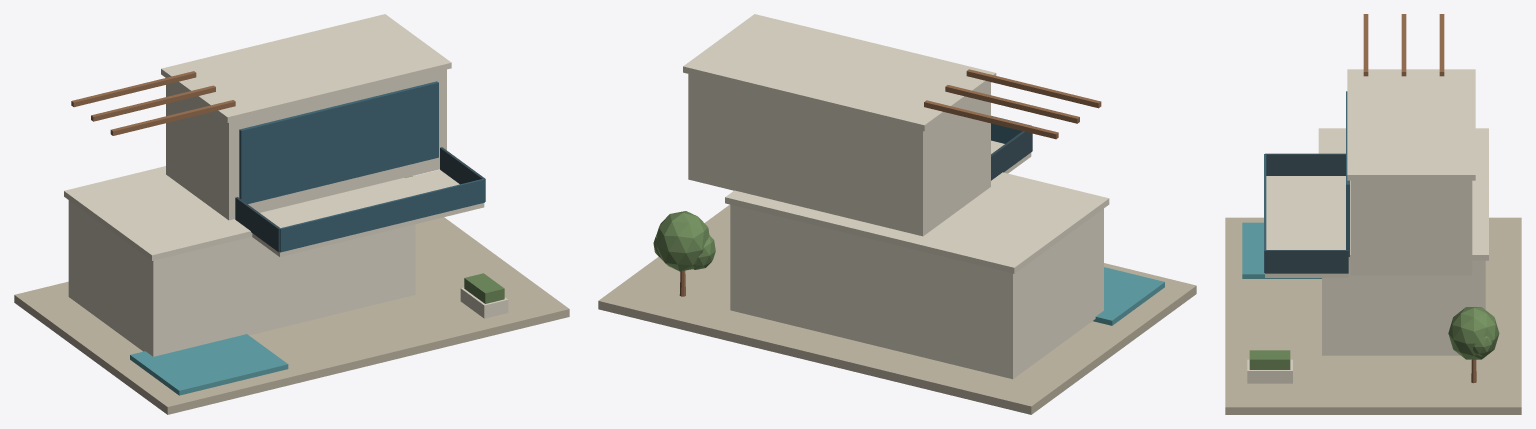
The model's file is villa_lod.glb.
The picture shows the model from 3 angles, left to right: view 1: azimuth 30°, elevation 25°; view 2: azimuth 150°, elevation 25°; view 3: azimuth 270°, elevation 25°; orthographic projection. The views are drawn at different scales.
Visible parts, largest first — view 1: villa_Building_Volume, villa_Site_Paving, villa_Roof_Coping.001, villa_Panoramic_Window, villa_Building_Volume.001, villa_Roof_Coping, villa_Garden_Pool, villa_Balcony_Glass, villa_Balcony_Slab, villa_Balcony_Rail, villa_Roof_Pergola, villa_Roof_Pergola.002 (+4 smaller); view 2: villa_Building_Volume, villa_Building_Volume.001, villa_Site_Paving, villa_Roof_Coping.001, villa_Roof_Coping, villa_Tree_Crown, villa_Garden_Pool, villa_Balcony_Rail, villa_Roof_Pergola.002, villa_Roof_Pergola, villa_Roof_Pergola.001; view 3: villa_Site_Paving, villa_Roof_Coping.001, villa_Building_Volume, villa_Building_Volume.001, villa_Balcony_Slab, villa_Roof_Coping, villa_Balcony_Rail.001, villa_Tree_Crown, villa_Balcony_Rail, villa_Garden_Pool, villa_Hedge, villa_Raised_Planter (+6 smaller).
Boxes of the visible parts, left/top/right/bottom form: villa_Building_Volume: left=68, top=200, right=415, bottom=356; villa_Site_Paving: left=14, top=217, right=569, bottom=414; villa_Roof_Coping.001: left=161, top=14, right=451, bottom=122; villa_Panoramic_Window: left=239, top=81, right=438, bottom=203; villa_Building_Volume.001: left=166, top=69, right=446, bottom=220; villa_Roof_Coping: left=64, top=166, right=404, bottom=260; villa_Garden_Pool: left=130, top=334, right=288, bottom=395; villa_Balcony_Glass: left=279, top=178, right=484, bottom=252; villa_Balcony_Slab: left=252, top=169, right=484, bottom=256; villa_Balcony_Rail: left=235, top=197, right=279, bottom=252; villa_Roof_Pergola: left=71, top=71, right=196, bottom=107; villa_Roof_Pergola.002: left=110, top=100, right=235, bottom=135; villa_Building_Volume: left=730, top=204, right=1103, bottom=379; villa_Building_Volume.001: left=688, top=74, right=990, bottom=236; villa_Site_Paving: left=598, top=204, right=1196, bottom=414; villa_Roof_Coping.001: left=683, top=14, right=996, bottom=131; villa_Roof_Coping: left=725, top=172, right=1109, bottom=273; villa_Tree_Crown: left=656, top=211, right=709, bottom=271; villa_Garden_Pool: left=1093, top=267, right=1164, bottom=325; villa_Balcony_Rail: left=991, top=131, right=1032, bottom=180; villa_Roof_Pergola.002: left=966, top=69, right=1101, bottom=108; villa_Roof_Pergola: left=924, top=100, right=1058, bottom=139; villa_Roof_Pergola.001: left=945, top=85, right=1079, bottom=123; villa_Site_Paving: left=1225, top=217, right=1521, bottom=414; villa_Roof_Coping.001: left=1347, top=69, right=1475, bottom=180; villa_Building_Volume: left=1322, top=260, right=1485, bottom=355; villa_Building_Volume.001: left=1350, top=180, right=1472, bottom=275; villa_Balcony_Slab: left=1265, top=176, right=1348, bottom=277; villa_Roof_Coping: left=1318, top=128, right=1488, bottom=260; villa_Balcony_Rail.001: left=1265, top=250, right=1348, bottom=273; villa_Tree_Crown: left=1448, top=307, right=1499, bottom=359; villa_Balcony_Rail: left=1265, top=153, right=1345, bottom=175; villa_Garden_Pool: left=1242, top=222, right=1321, bottom=278; villa_Hedge: left=1249, top=350, right=1290, bottom=369; villa_Raised_Planter: left=1247, top=359, right=1292, bottom=383.
Size of the model in its own units: 11.8 by 6.37 by 7.8.
